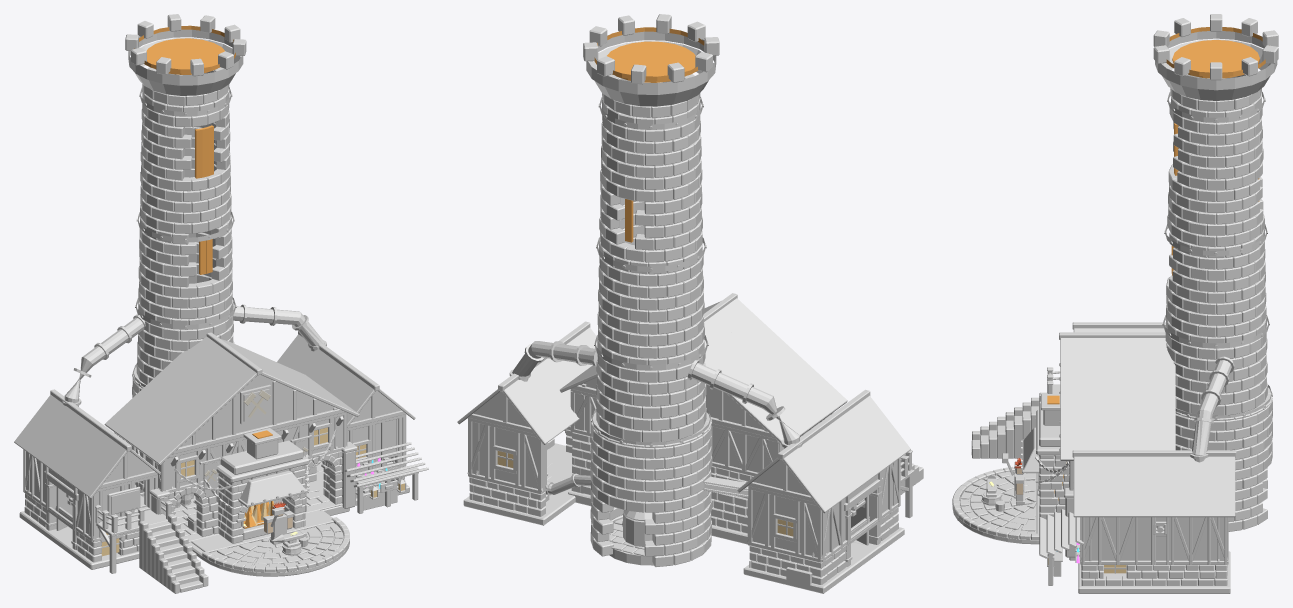
The model's file is LOBBY_03_FORGE.fbx.
The picture shows the model from 3 angles, left to right: view 1: azimuth 30°, elevation 25°; view 2: azimuth 150°, elevation 25°; view 3: azimuth 270°, elevation 25°; orthographic projection. The views are drawn at different scales.
Parts seen in each view (by area): view 1: FORGE_Chimney_Tower__Stone_Light_0, FORGE_Hall_Roof__Roof, FORGE_Chimney_Tower__Stone_Dark, FORGE_Wing_L__Roof, FORGE_Chimney_Tower__Stone_Light_1, FORGE_Foundation_Dais__Stone_Dark, FORGE_Hall_Walls__Wood_Dark, FORGE_Wing_L__Wood_Dark, FORGE_Hall_Walls__Plaster, FORGE_Foundation_Dais__Stone_Paving, FORGE_Loft_Balcony__Wood_Plank, FORGE_Hearth__Stone_Dark (+22 smaller); view 2: FORGE_Chimney_Tower__Stone_Light_0, FORGE_Chimney_Tower__Stone_Dark, FORGE_Chimney_Tower__Stone_Light_1, FORGE_Hall_Roof__Roof, FORGE_Wing_L__Roof, FORGE_Wing_L__Wood_Dark, FORGE_Wing_R__Roof, FORGE_Foundation_Dais__Stone_Dark, FORGE_Wing_L__Stone_Dark, FORGE_Wing_R__Wood_Dark, FORGE_Wing_L__Plaster, FORGE_Wing_R__Stone_Light (+15 smaller); view 3: FORGE_Chimney_Tower__Stone_Light_1, FORGE_Hall_Roof__Roof, FORGE_Chimney_Tower__Stone_Dark, FORGE_Wing_R__Roof, FORGE_Wing_R__Stone_Light, FORGE_Wing_R__Wood_Dark, FORGE_Wing_R__Plaster, FORGE_Foundation_Dais__Stone_Dark, FORGE_Foundation_Dais__Stone_Paving, FORGE_Chimney_Tower__Forge_Emissive, FORGE_Chimney_Tower__Metal_Dark, FORGE_Chimney_Tower__Metal_Iron (+16 smaller).
Part boxes in pixels (x1,y1,x2,y2): FORGE_Chimney_Tower__Stone_Light_0: (125, 21, 213, 397); FORGE_Hall_Roof__Roof: (104, 333, 359, 465); FORGE_Chimney_Tower__Stone_Dark: (132, 38, 240, 397); FORGE_Wing_L__Roof: (14, 394, 160, 497); FORGE_Chimney_Tower__Stone_Light_1: (167, 14, 246, 343); FORGE_Foundation_Dais__Stone_Dark: (19, 462, 409, 576); FORGE_Hall_Walls__Wood_Dark: (114, 381, 346, 492); FORGE_Wing_L__Wood_Dark: (23, 389, 157, 549); FORGE_Hall_Walls__Plaster: (119, 374, 343, 490); FORGE_Foundation_Dais__Stone_Paving: (174, 485, 342, 566); FORGE_Loft_Balcony__Wood_Plank: (68, 485, 208, 593); FORGE_Hearth__Stone_Dark: (216, 434, 309, 543); FORGE_Chimney_Tower__Stone_Light_0: (617, 21, 719, 566); FORGE_Chimney_Tower__Stone_Dark: (589, 41, 713, 552); FORGE_Chimney_Tower__Stone_Light_1: (583, 14, 671, 556); FORGE_Hall_Roof__Roof: (559, 294, 847, 443); FORGE_Wing_L__Roof: (737, 395, 910, 512); FORGE_Wing_L__Wood_Dark: (747, 389, 900, 566); FORGE_Wing_R__Roof: (457, 327, 597, 444); FORGE_Foundation_Dais__Stone_Dark: (463, 443, 904, 593); FORGE_Wing_L__Stone_Dark: (737, 391, 910, 584); FORGE_Wing_R__Wood_Dark: (468, 321, 590, 493); FORGE_Wing_L__Plaster: (752, 460, 897, 557); FORGE_Wing_R__Stone_Light: (457, 322, 590, 516); FORGE_Chimney_Tower__Stone_Light_1: (1153, 45, 1278, 531); FORGE_Hall_Roof__Roof: (1059, 333, 1175, 460); FORGE_Chimney_Tower__Stone_Dark: (1161, 39, 1272, 508); FORGE_Wing_R__Roof: (1074, 456, 1234, 517); FORGE_Wing_R__Stone_Light: (1072, 450, 1236, 585); FORGE_Wing_R__Wood_Dark: (1073, 450, 1235, 573); FORGE_Wing_R__Plaster: (1084, 517, 1224, 560); FORGE_Foundation_Dais__Stone_Dark: (952, 467, 1230, 593); FORGE_Foundation_Dais__Stone_Paving: (960, 471, 1039, 533); FORGE_Chimney_Tower__Forge_Emissive: (1166, 27, 1265, 275); FORGE_Chimney_Tower__Metal_Dark: (1155, 31, 1277, 90); FORGE_Chimney_Tower__Metal_Iron: (1163, 91, 1271, 420).
Size of the model in its own units: 71.03 by 92.7 by 58.14.
